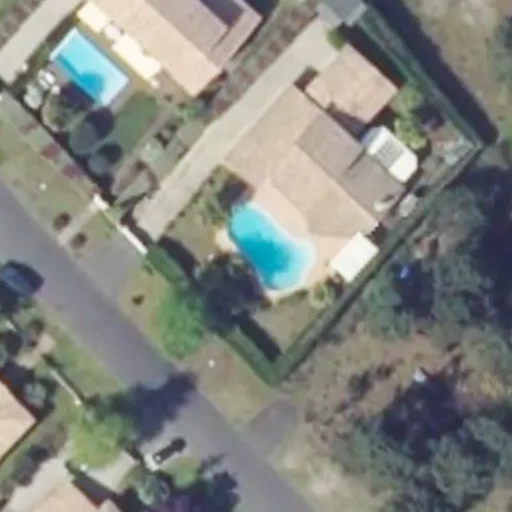pool: (207, 217, 308, 262)
